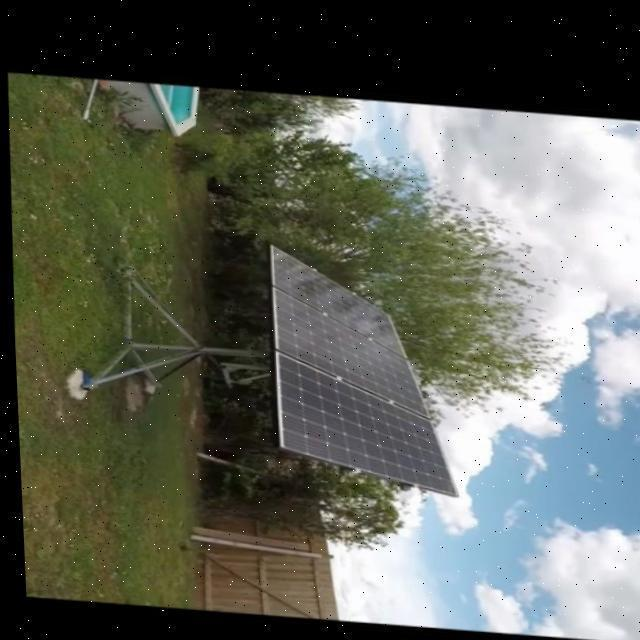Normal Solar Panel: (269, 348, 453, 489), (266, 284, 422, 409), (264, 242, 402, 350)
